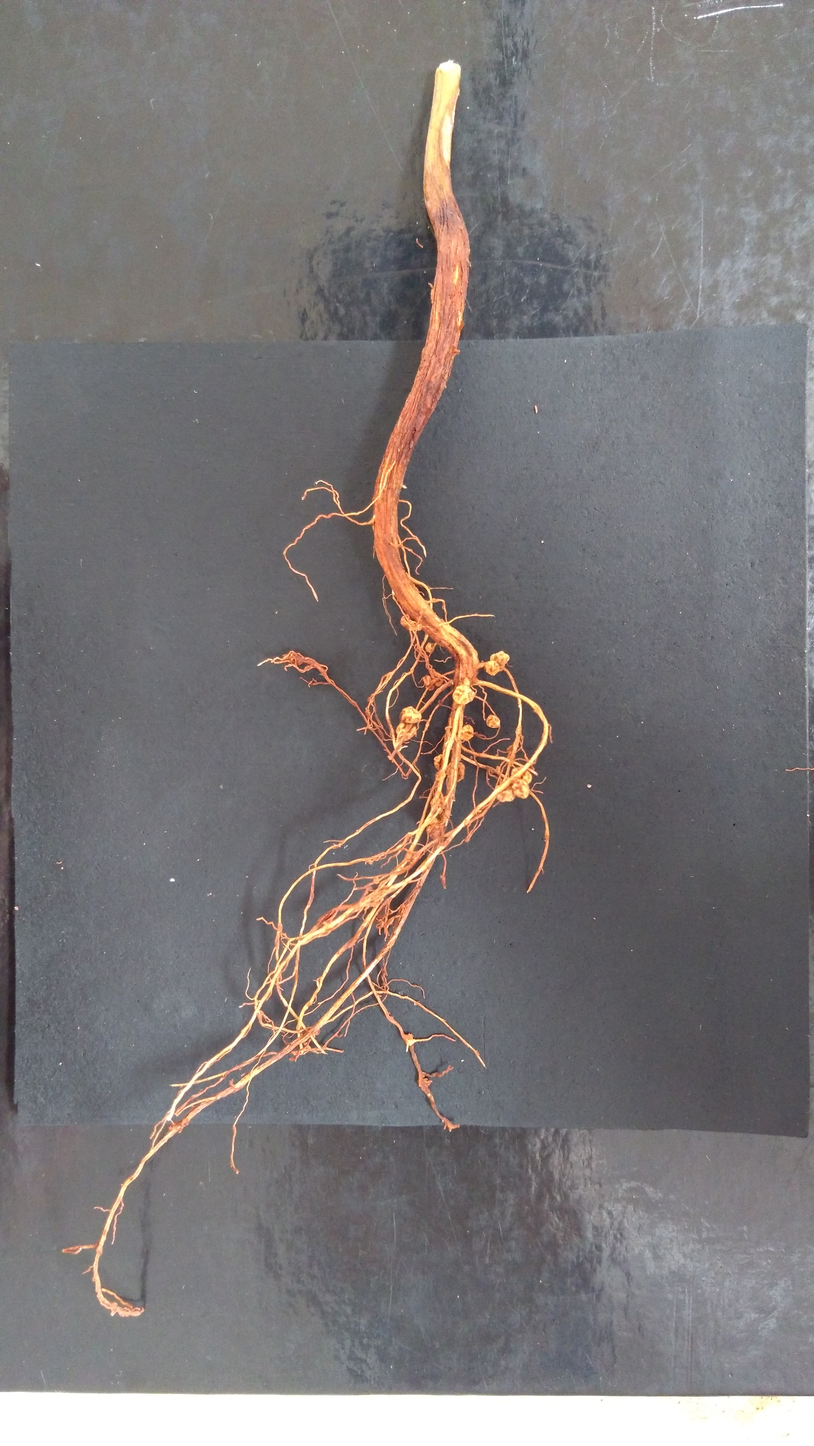nodule: (489, 650, 510, 672), (452, 684, 475, 704), (510, 765, 533, 785), (495, 780, 515, 802), (400, 613, 423, 632), (395, 722, 418, 741), (426, 816, 443, 841), (445, 761, 465, 782), (511, 778, 530, 799), (400, 706, 422, 724), (430, 790, 445, 814), (483, 660, 501, 676), (429, 668, 444, 687), (459, 724, 474, 742), (289, 651, 306, 666), (485, 714, 500, 729), (421, 674, 434, 691), (433, 754, 444, 770), (425, 642, 435, 653), (435, 770, 445, 781), (506, 744, 513, 755), (372, 875, 380, 884), (494, 766, 501, 774), (437, 699, 443, 706), (431, 597, 436, 604), (469, 755, 473, 760)
